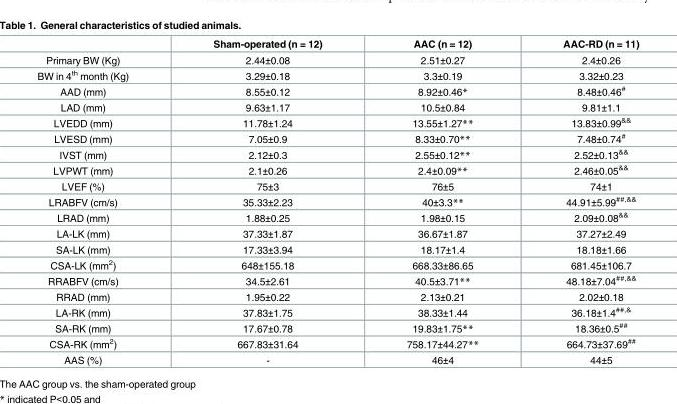table: (36, 37, 638, 365)
table column: (170, 37, 363, 365), (363, 37, 520, 365), (36, 37, 170, 365), (520, 37, 638, 365)
table column header: (36, 37, 638, 51)
table row: (36, 82, 638, 99), (36, 161, 638, 178), (36, 66, 638, 82), (36, 114, 638, 130), (36, 145, 638, 161), (36, 193, 638, 209), (36, 209, 638, 225), (36, 225, 638, 241), (36, 256, 638, 272), (36, 272, 638, 288), (36, 303, 638, 319), (36, 319, 638, 335), (36, 335, 638, 351), (36, 51, 638, 66), (36, 99, 638, 114), (36, 130, 638, 145), (36, 178, 638, 193), (36, 241, 638, 256), (36, 288, 638, 303), (36, 37, 638, 51), (36, 351, 638, 365)
